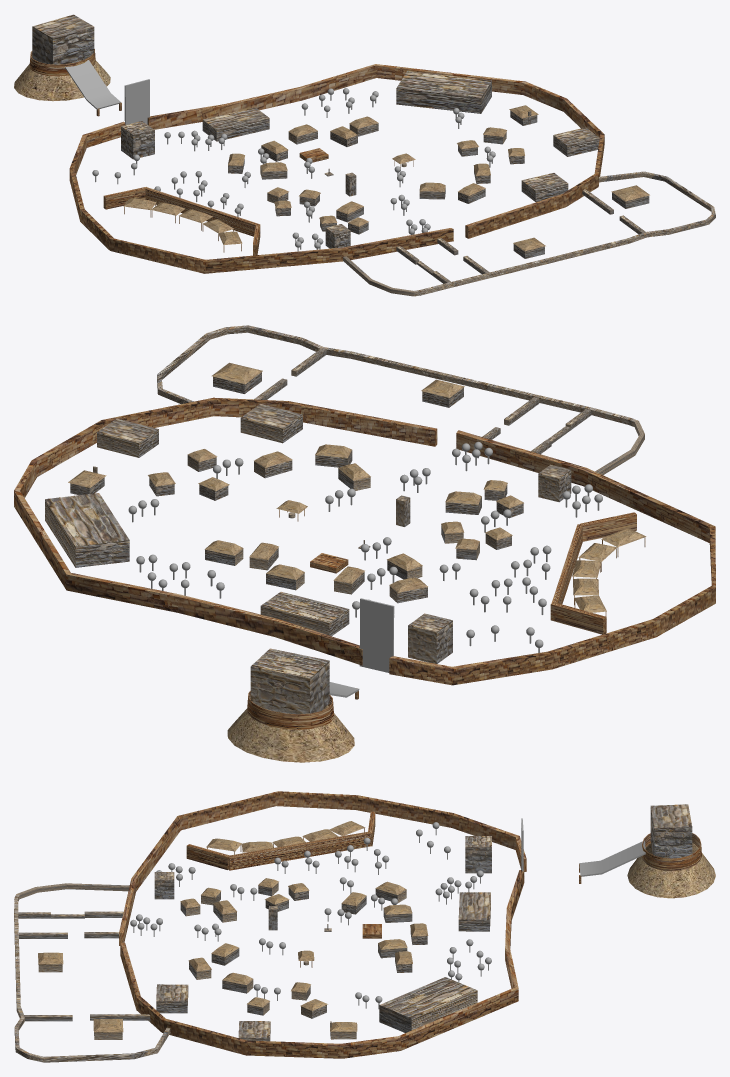
The model's file is TownAssets.fbx.
3 views of the same model, one above another, from view 1: azimuth 30°, elevation 25°; view 2: azimuth 150°, elevation 25°; view 3: azimuth 270°, elevation 25° (orthographic). The views are drawn at different scales.
Visible parts, largest first — view 1: outerWall, farmWall, dragonHouse, manor, hill, stables, drawBridgeDown, marketWall1, bellTower, drawBridgeUp, guardHouse, forge (+3 smaller); view 2: outerWall, farmWall, dragonHouse, manor, hill, stables, drawBridgeUp, bellTower, forge, guardHouse, wallManor, marketWall (+3 smaller); view 3: outerWall, dragonHouse, farmWall, hill, manor, marketWall1, stables, bellTower, drawBridgeDown, wallManor, forge, marketWall2 (+2 smaller).
Boxes of the visible parts, <box> form: outerWall: <box>69,64,604,273</box>; farmWall: <box>343,171,715,296</box>; dragonHouse: <box>396,71,491,113</box>; manor: <box>32,14,94,64</box>; hill: <box>14,60,110,101</box>; stables: <box>202,107,269,141</box>; drawBridgeDown: <box>65,60,120,109</box>; marketWall1: <box>145,187,260,236</box>; bellTower: <box>121,121,154,159</box>; drawBridgeUp: <box>124,79,149,124</box>; guardHouse: <box>553,127,599,156</box>; forge: <box>521,173,568,202</box>; outerWall: <box>14,397,715,685</box>; farmWall: <box>157,325,644,474</box>; dragonHouse: <box>45,493,129,567</box>; manor: <box>250,648,329,714</box>; hill: <box>227,705,354,762</box>; stables: <box>260,591,349,636</box>; drawBridgeUp: <box>359,598,394,672</box>; bellTower: <box>408,613,452,663</box>; forge: <box>240,404,302,443</box>; guardHouse: <box>97,418,158,457</box>; wallManor: <box>247,691,334,729</box>; marketWall: <box>550,603,606,634</box>; outerWall: <box>119,791,526,1058</box>; dragonHouse: <box>379,977,477,1032</box>; farmWall: <box>14,883,170,1062</box>; hill: <box>627,843,715,898</box>; manor: <box>650,804,692,858</box>; marketWall1: <box>228,831,371,870</box>; stables: <box>458,892,490,931</box>; bellTower: <box>465,836,491,873</box>; drawBridgeDown: <box>579,840,645,876</box>; wallManor: <box>641,833,701,871</box>; forge: <box>156,984,188,1013</box>; marketWall2: <box>186,844,229,869</box>.
Bounding box in the file's own units: 128 × 14.63 × 147.
